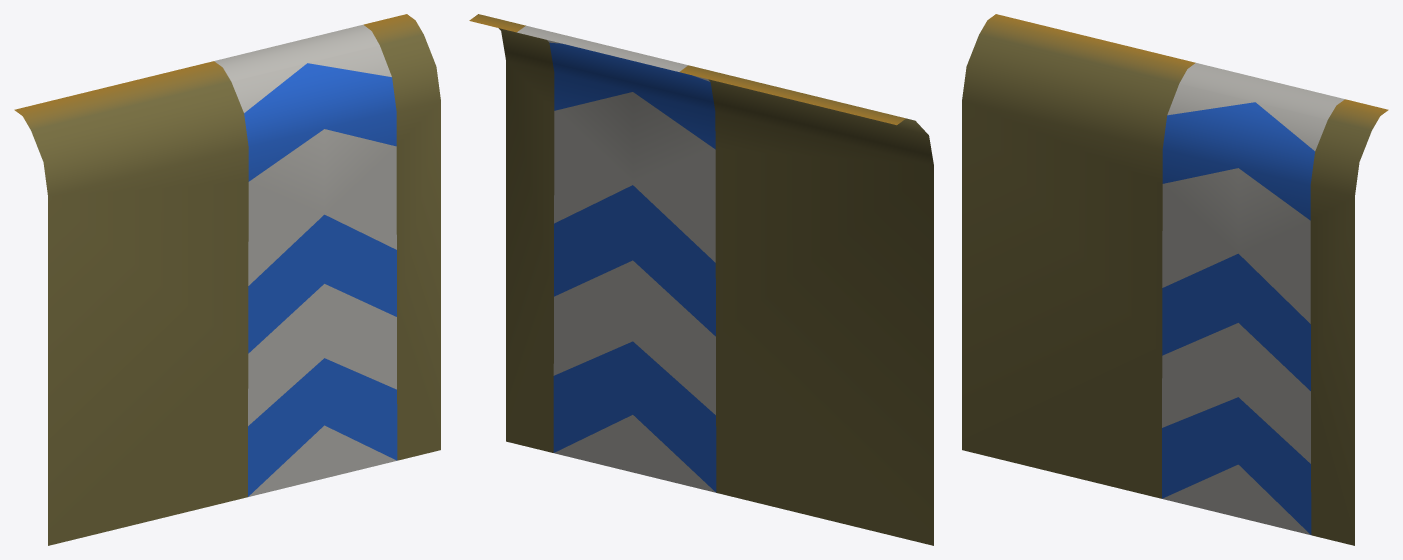
File: Base_WallRoadSide.fbx
3 views of the same model, side by side, from view 1: azimuth 30°, elevation 25°; view 2: azimuth 150°, elevation 25°; view 3: azimuth 330°, elevation 25° (orthographic). The views are drawn at different scales.
Parts seen in each view (by area): view 1: Base_WallRoadSide; view 2: Base_WallRoadSide; view 3: Base_WallRoadSide.
Boxes of the visible parts, x1,y1,x2,y2 form: Base_WallRoadSide: (14,14,440,545); Base_WallRoadSide: (469,14,933,545); Base_WallRoadSide: (962,14,1388,545).
Size of the model in its own units: 2000 by 2000 by 300.
